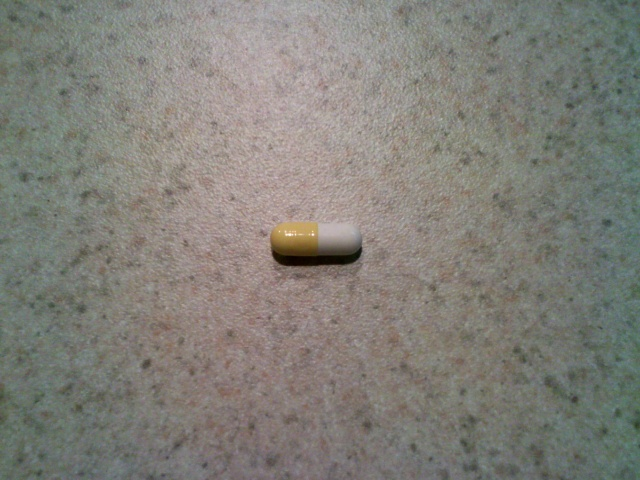capsule: (269, 217, 365, 264)
